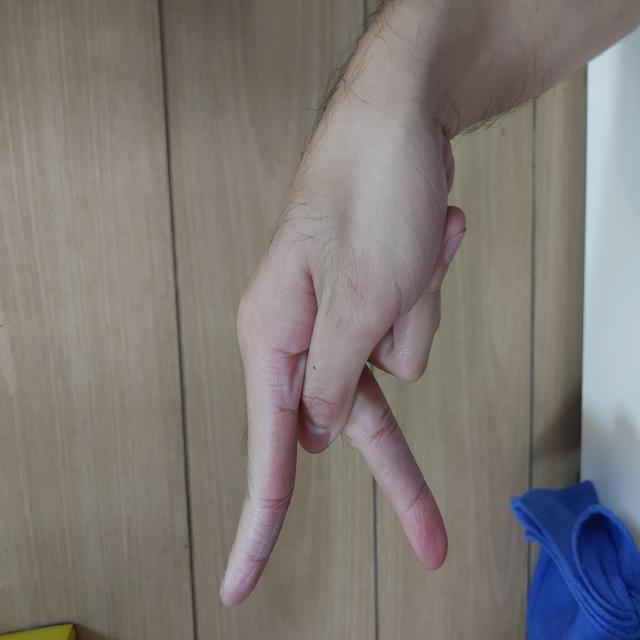P: (30, 216, 585, 468)
